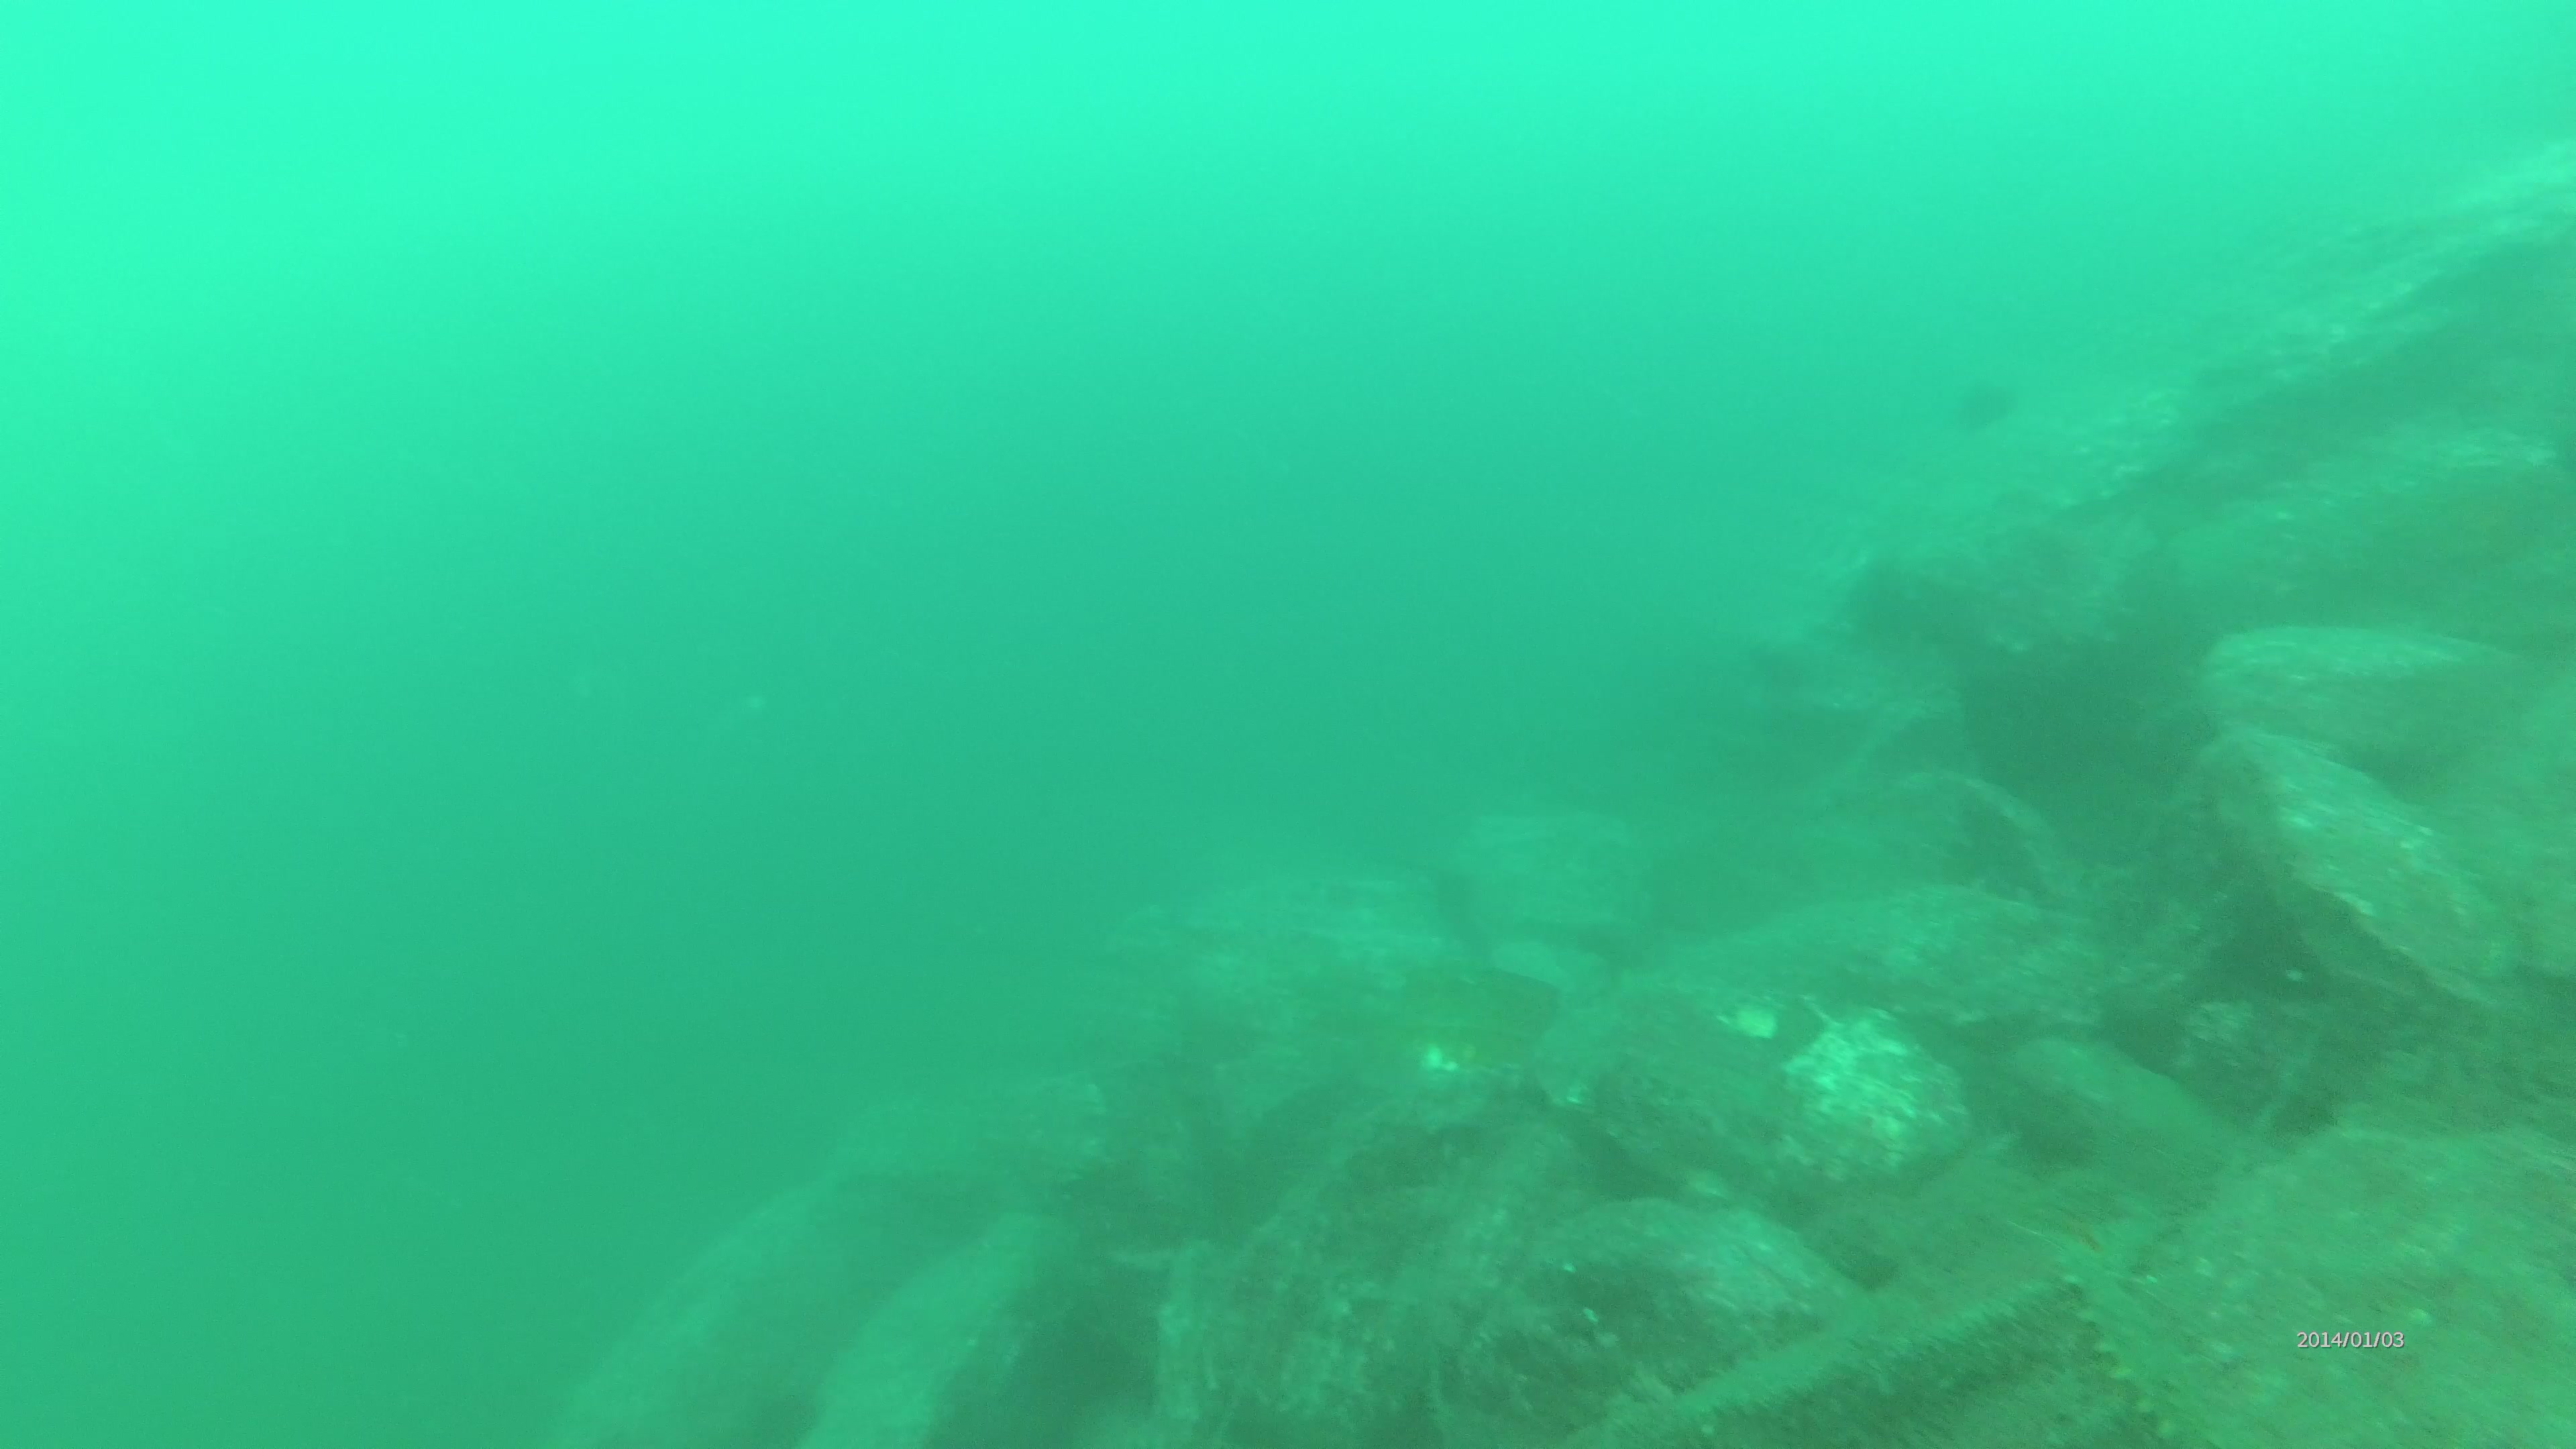echinus: (1953, 377, 2022, 441)
holothurian: (2038, 1238, 2233, 1449)
